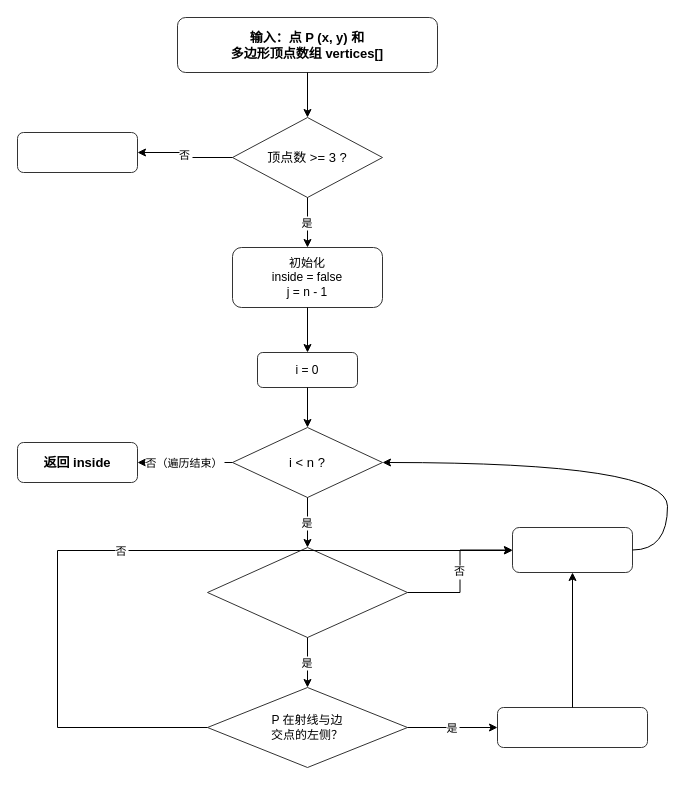
Image size: 685x785. Some labels were removed from this diagram. The shapes that lost their labels are listed below. From the top down, each one's centre as x and y in pixels, then its label:
At point (77, 152): "返回 false".
At point (572, 549): "j = i i = i + 1".
At point (307, 592): "边的两端点分别在 P 的上方和下方？".
At point (572, 727): "inside = !inside".
